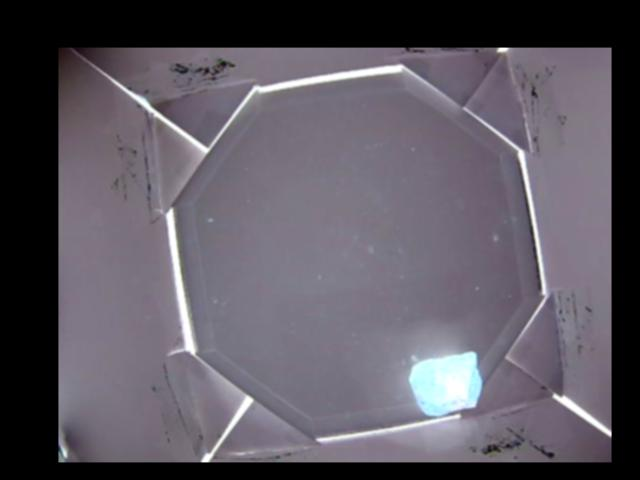Brisk: (409, 349, 481, 419)
